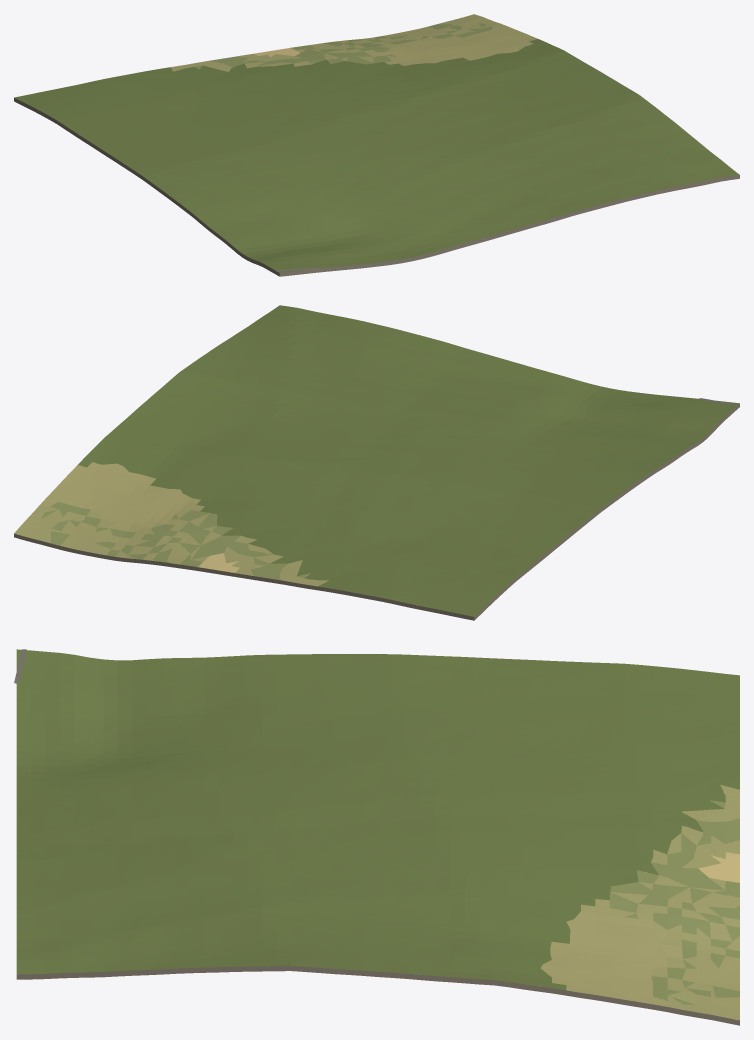
File: parca_+11_-2-uzak.glb
3 renders of one model, top to bottom at view 1: azimuth 30°, elevation 25°; view 2: azimuth 150°, elevation 25°; view 3: azimuth 270°, elevation 25°, orthographic. The views are drawn at different scales.
Parts seen in each view (by area): view 1: parca_+11_-2_arazi_uzak; view 2: parca_+11_-2_arazi_uzak; view 3: parca_+11_-2_arazi_uzak.
Part boxes in pixels (x1=…): parca_+11_-2_arazi_uzak: x1=14, y1=14, x2=739, y2=276; parca_+11_-2_arazi_uzak: x1=14, y1=305, x2=739, y2=620; parca_+11_-2_arazi_uzak: x1=16, y1=649, x2=739, y2=1025.
Size of the model in its own units: 1002 by 110 by 1004.
